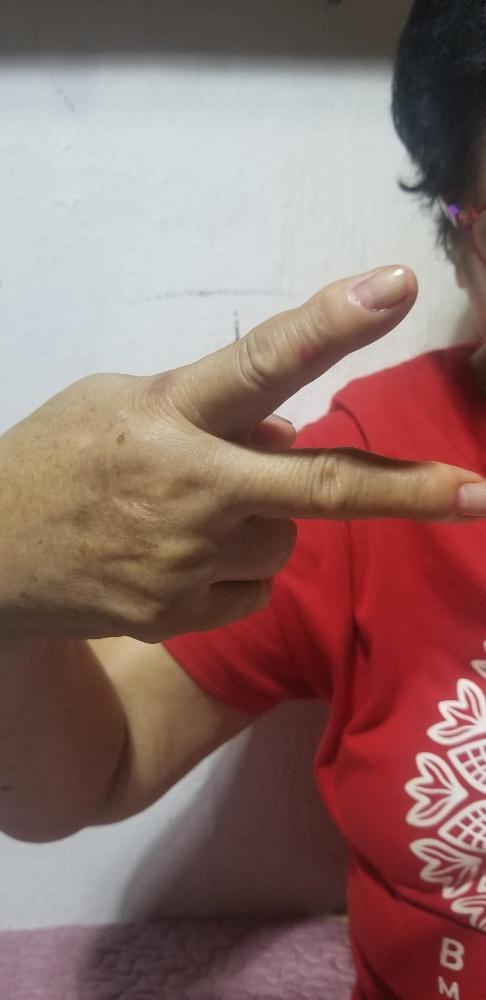k: (61, 259, 485, 641)
